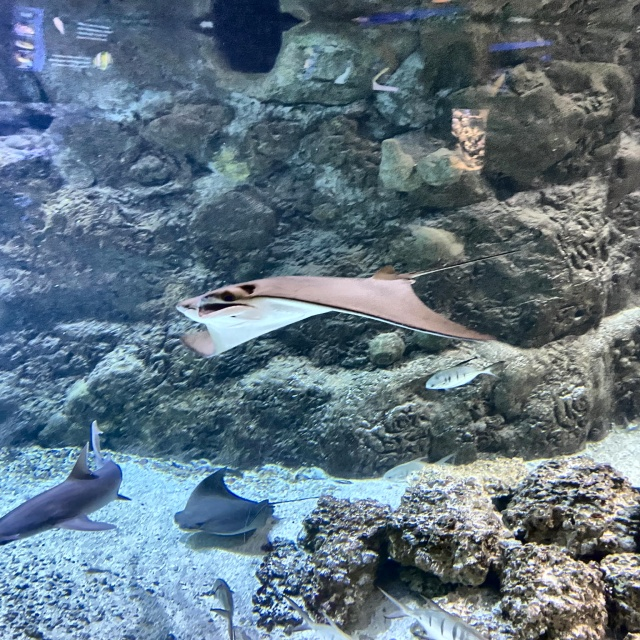fish: (425, 361, 496, 390), (206, 576, 236, 638)
shark: (1, 419, 134, 551)
stingray: (172, 262, 494, 361), (172, 466, 275, 536)
